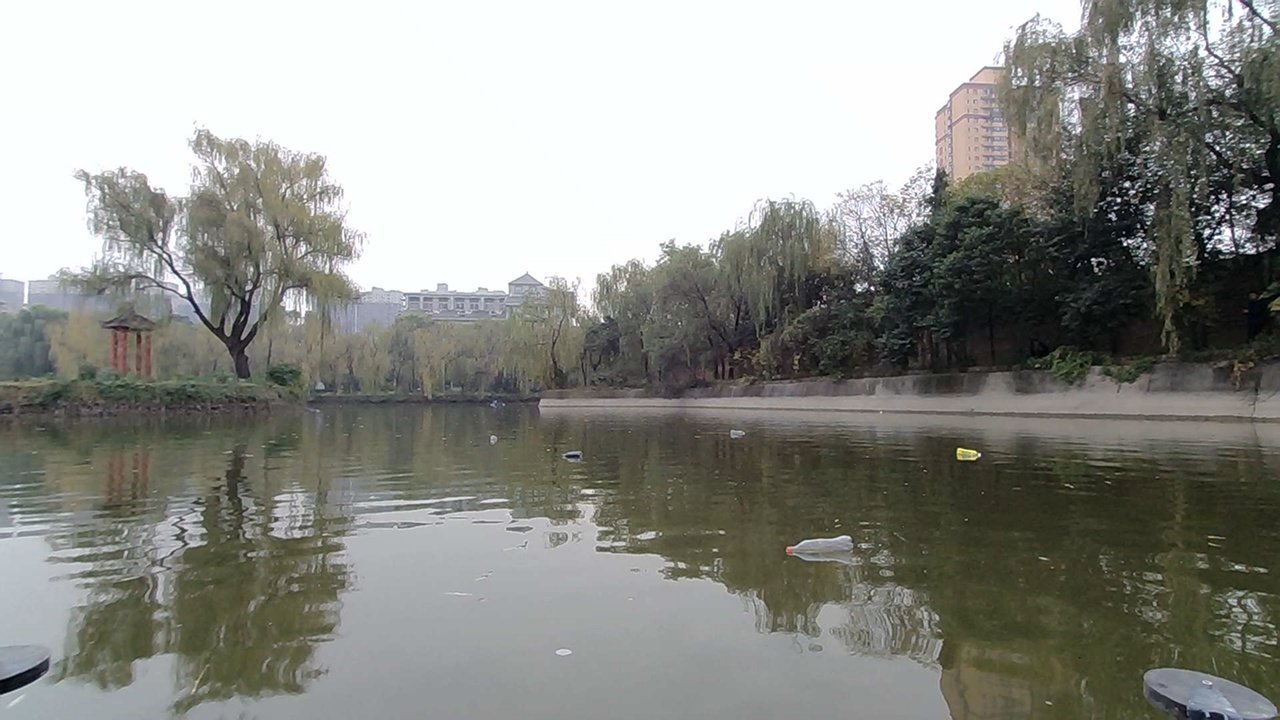bottle: (790, 506, 871, 578), (467, 427, 535, 457), (562, 432, 604, 470), (951, 435, 984, 469), (725, 419, 762, 442)
